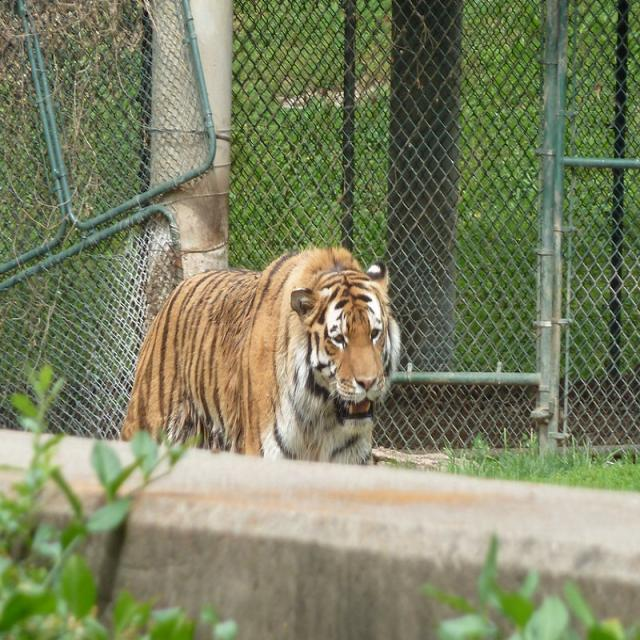Tiger: (108, 236, 406, 468)
